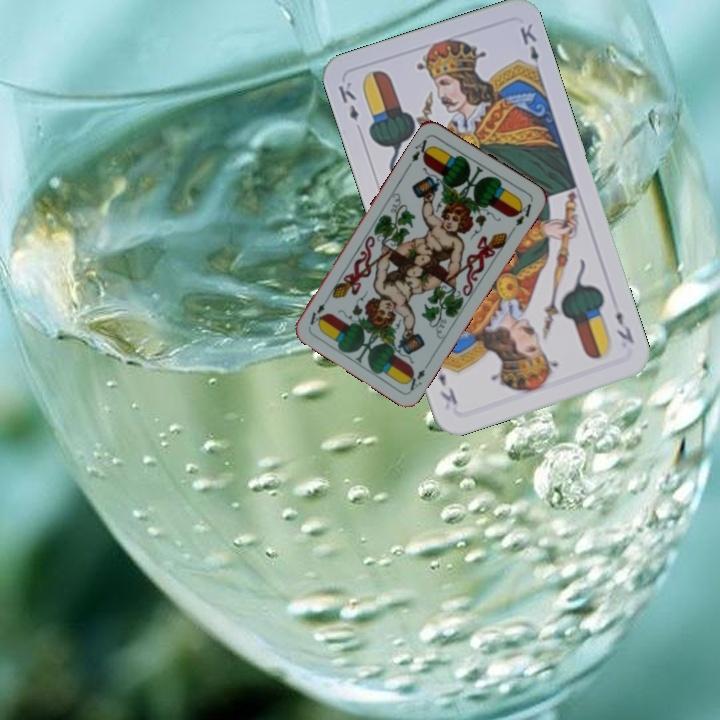EA: (402, 357, 433, 393), (405, 132, 434, 168)
EK: (334, 77, 361, 124), (611, 307, 637, 346)
